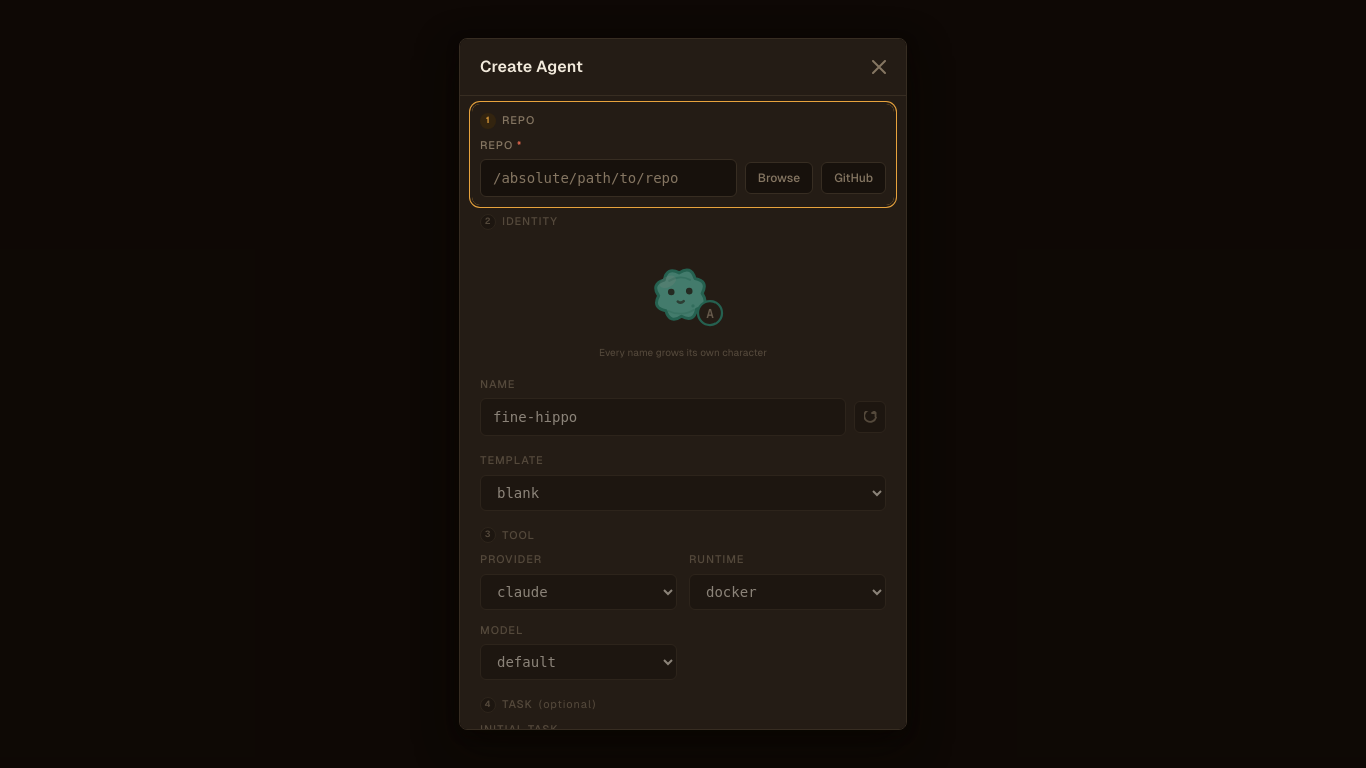
Test: CreateAgentModal GitHub discover › asks for a token when GitHub is not connected
Click the button "GitHub".
click(854, 178)  # box [821,162,886,194]
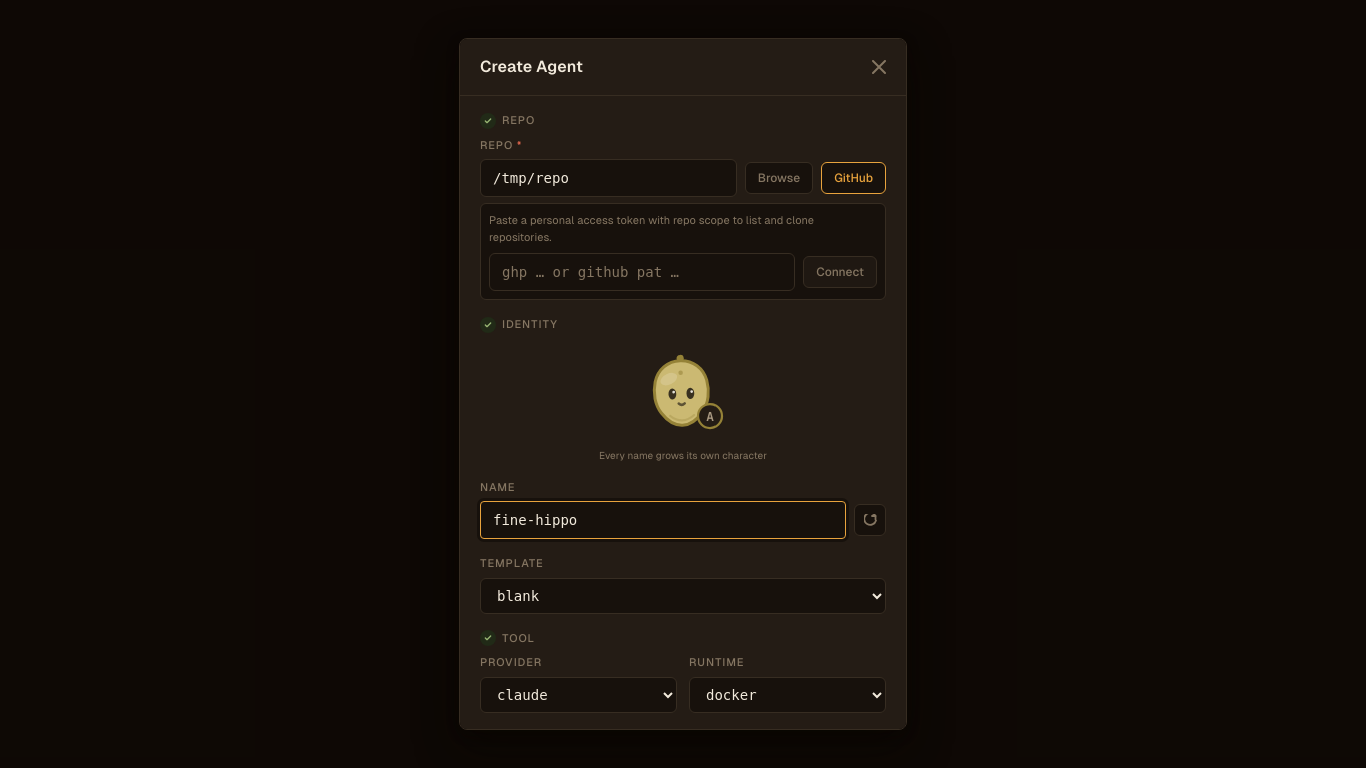
Expected: the element with test id "create-agent-github-panel" is shown, [480,203,886,300]
Expected: the password field named "GitHub token" is shown, [489,253,795,291]
Expected: the button "Connect" is shown, [803,256,877,288]
